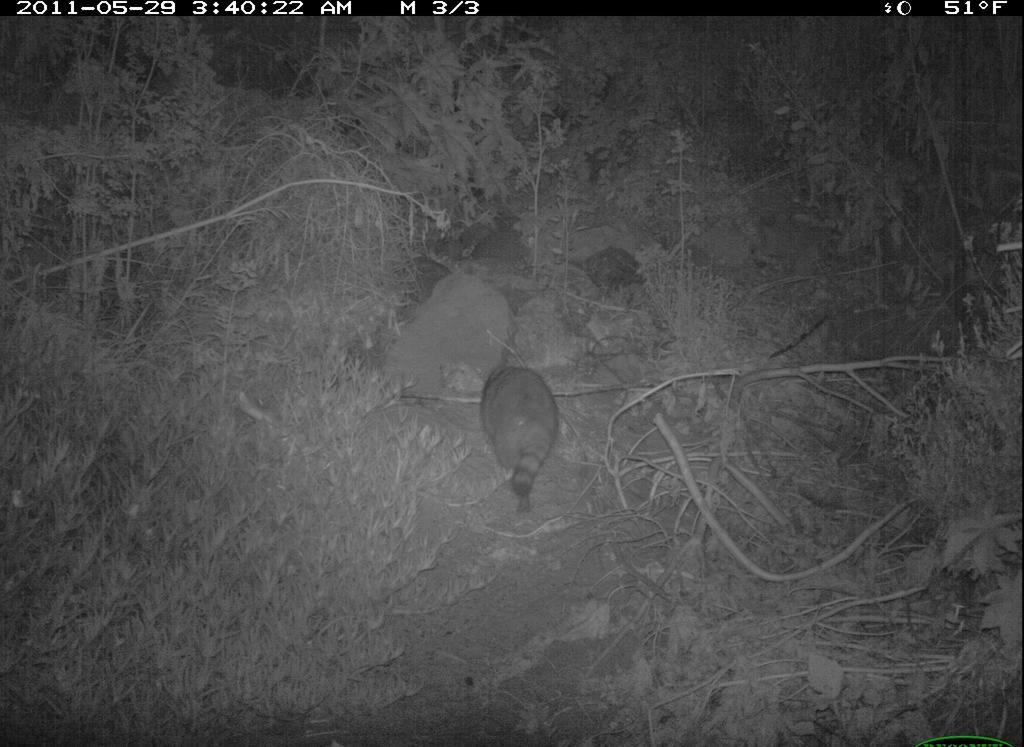raccoon: (478, 364, 571, 519)
